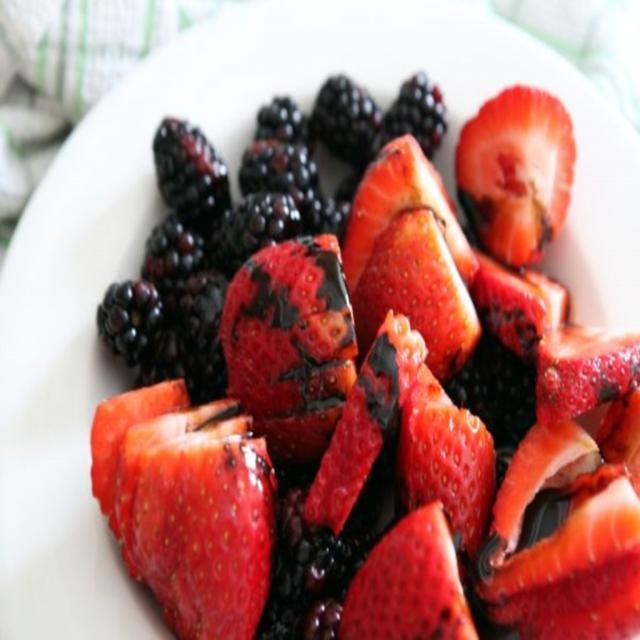Strawberry: (88, 130, 639, 639), (451, 85, 577, 266), (397, 389, 499, 541)
